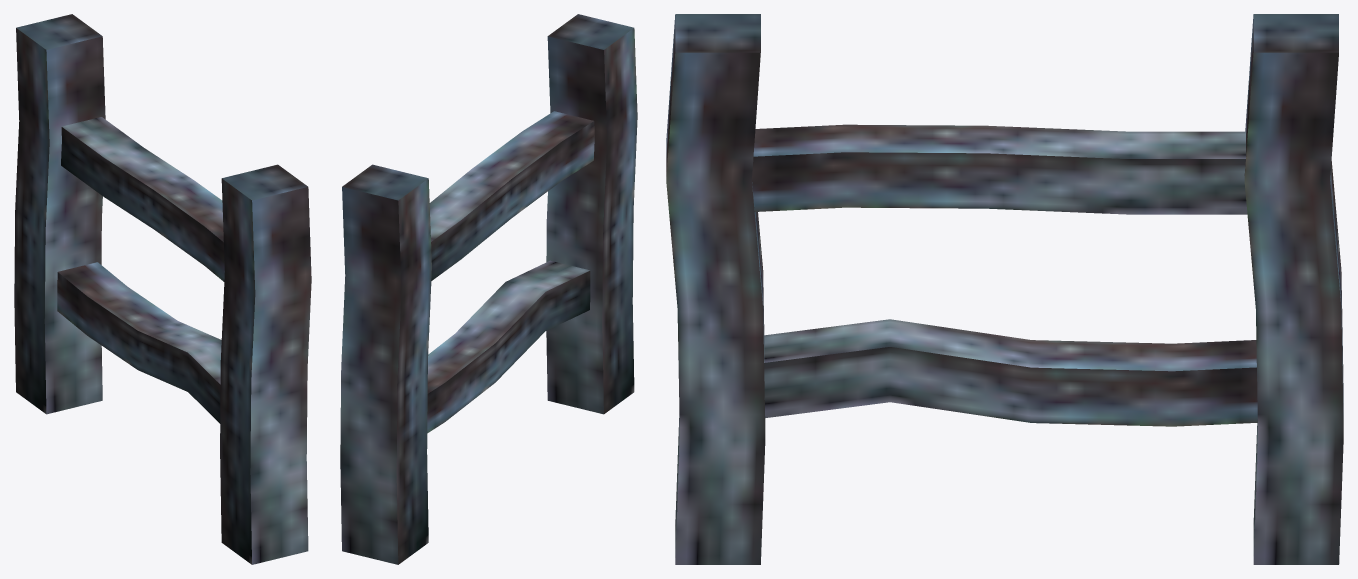
Rendered from fence.fbx.
The picture shows the model from 3 angles, left to right: view 1: azimuth 30°, elevation 25°; view 2: azimuth 150°, elevation 25°; view 3: azimuth 270°, elevation 25°; orthographic projection. The views are drawn at different scales.
Parts seen in each view (by area): view 1: fence; view 2: fence; view 3: fence.
Boxes of the visible parts, x1,y1,x2,y2 form: fence: (14,14,311,564); fence: (340,14,637,564); fence: (666,14,1343,564).
Size of the model in its own units: 23.72 by 147 by 176.
1 material, 1 textured.
